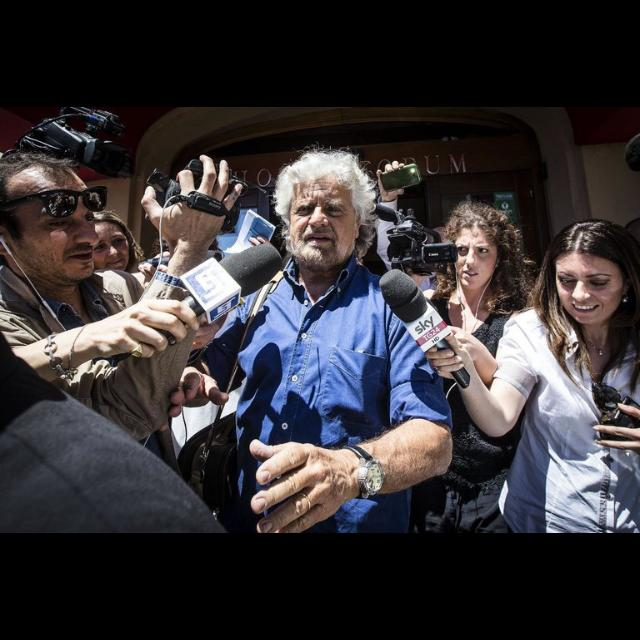head: (0, 154, 104, 286), (282, 164, 363, 270), (555, 219, 633, 327), (447, 210, 505, 288), (404, 226, 444, 278)
person: (366, 160, 464, 460)
